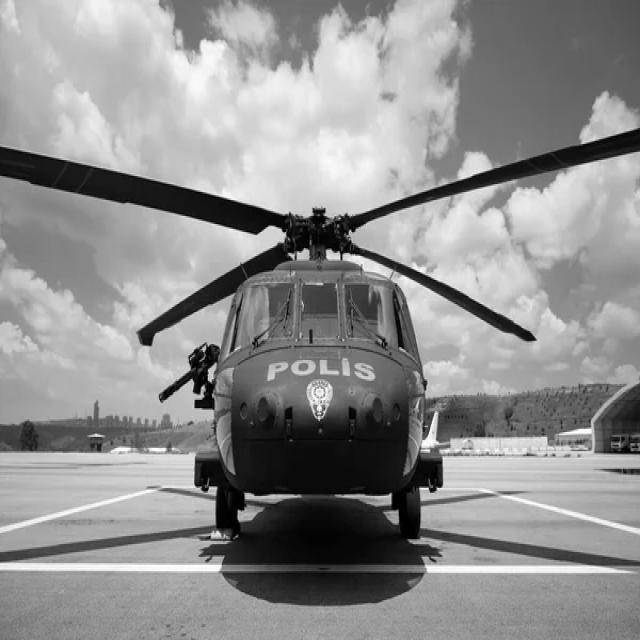Helicopter: (0, 128, 639, 539)
